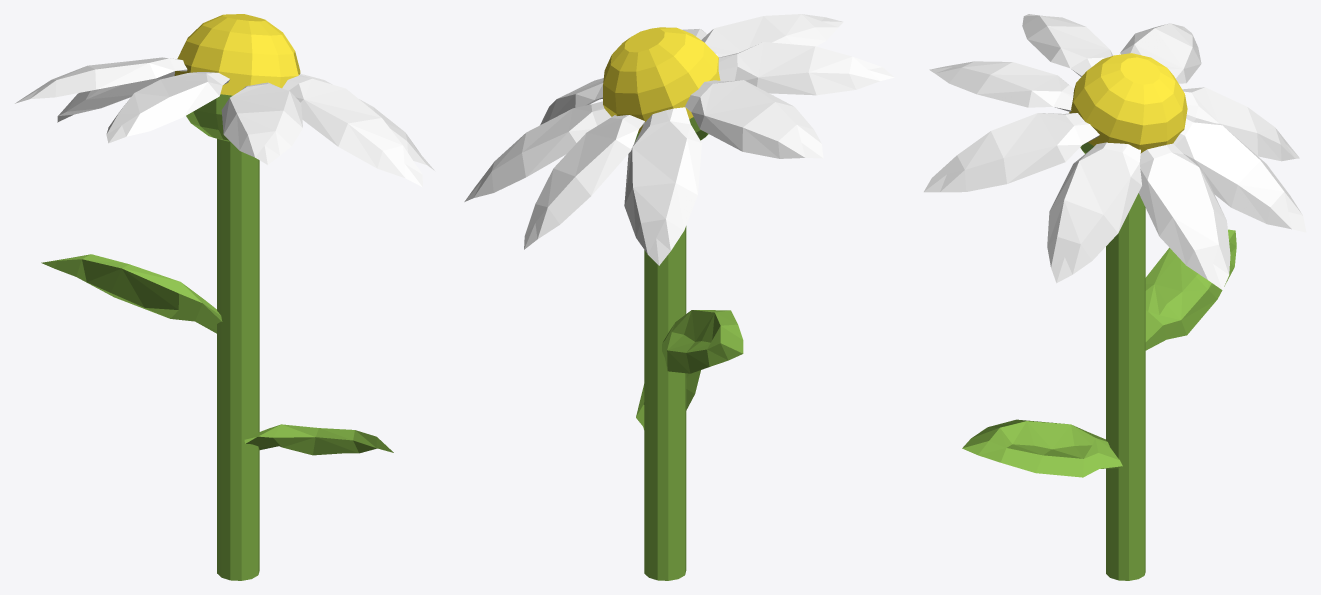
3 views of the same model, side by side, from view 1: azimuth 30°, elevation 25°; view 2: azimuth 150°, elevation 25°; view 3: azimuth 270°, elevation 25° (orthographic). The views are drawn at different scales.
Visible parts, largest first — view 1: default; view 2: default; view 3: default.
Part boxes in pixels (x1=…): default: x1=15, y1=14, x2=434, y2=580; default: x1=464, y1=14, x2=894, y2=580; default: x1=924, y1=14, x2=1306, y2=580.
Size of the model in its own units: 0.1886 by 0.282 by 0.1905.
